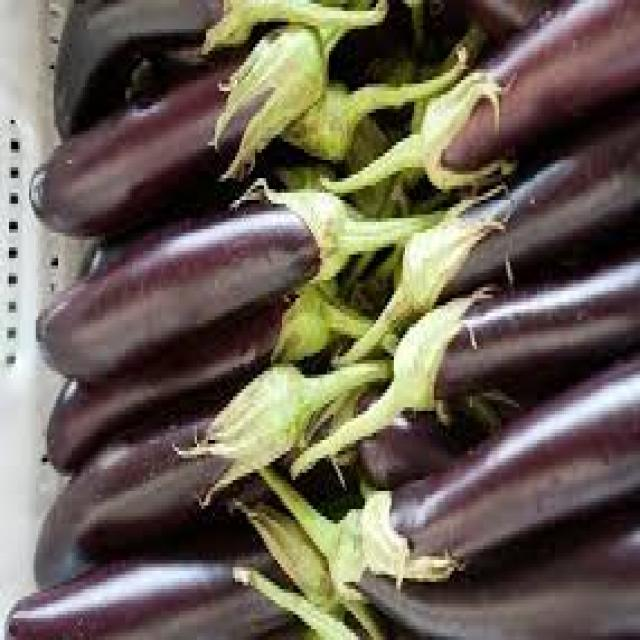eggplant: (38, 193, 448, 380)
